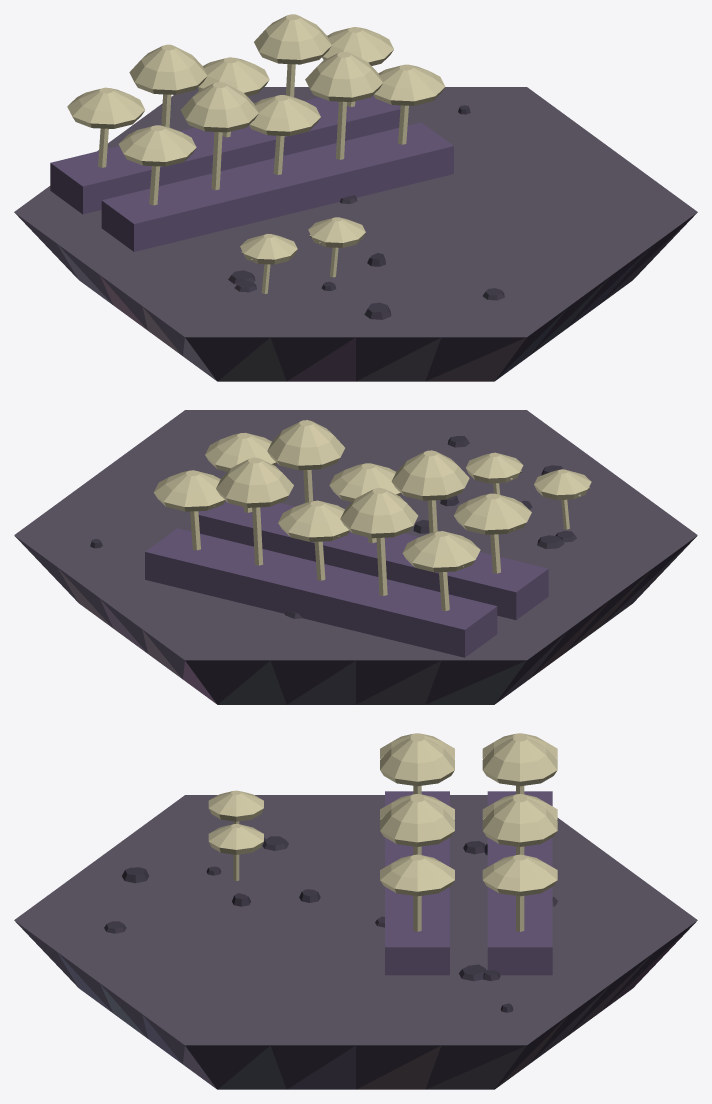
Rendered from space_tile_grain.glb.
The picture shows the model from 3 angles, top to bottom: view 1: azimuth 30°, elevation 25°; view 2: azimuth 150°, elevation 25°; view 3: azimuth 270°, elevation 25°; orthographic projection.
Visible parts, largest first — view 1: FixedDetails; view 2: FixedDetails; view 3: FixedDetails.
Boxes of the visible parts, x1,y1,x2,y2 form: FixedDetails: [14, 14, 697, 381]; FixedDetails: [14, 410, 697, 704]; FixedDetails: [14, 733, 697, 1089].
Size of the model in its own units: 1.73 by 0.64 by 2.
